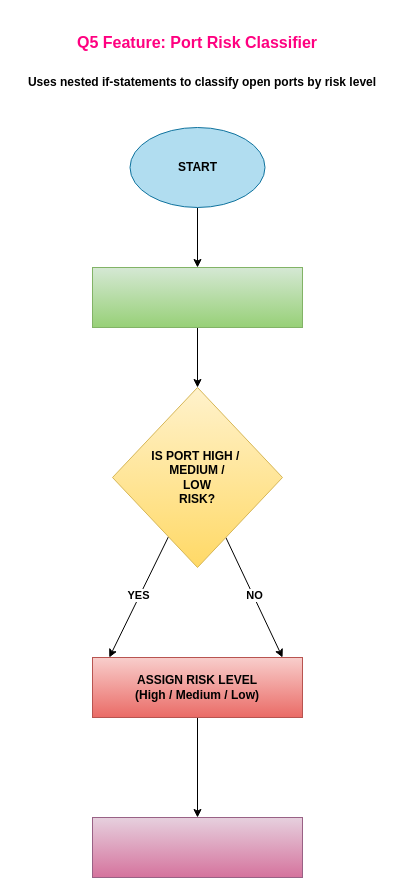
This 399x895 diagram has some shape labels left out. Here are the shapes that lost their labels. From the top down, the box of each, then its label:
(92, 266, 302, 328): GET OPEN PORTS
(92, 816, 302, 878): DISPLAY PORT & RISK LEVEL
